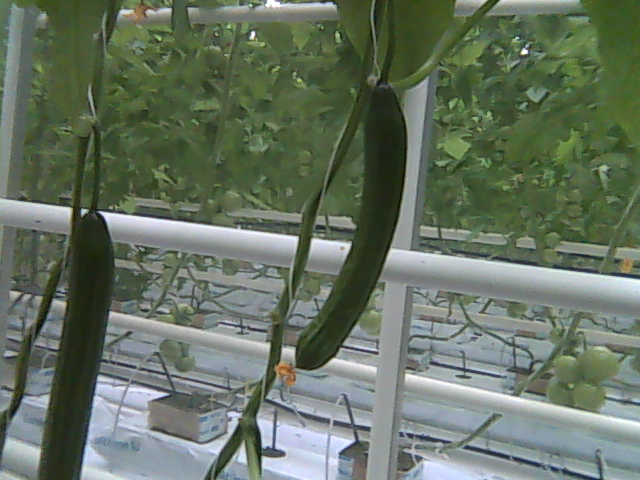concombre: (274, 78, 411, 387), (35, 194, 119, 480)
